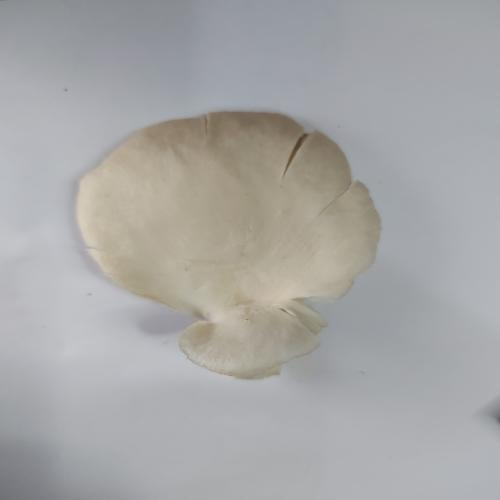Oyster Mushroom: (75, 110, 383, 380)
